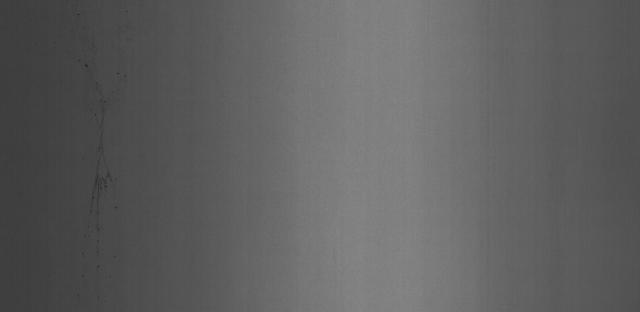water_spot: (74, 60, 125, 227)
